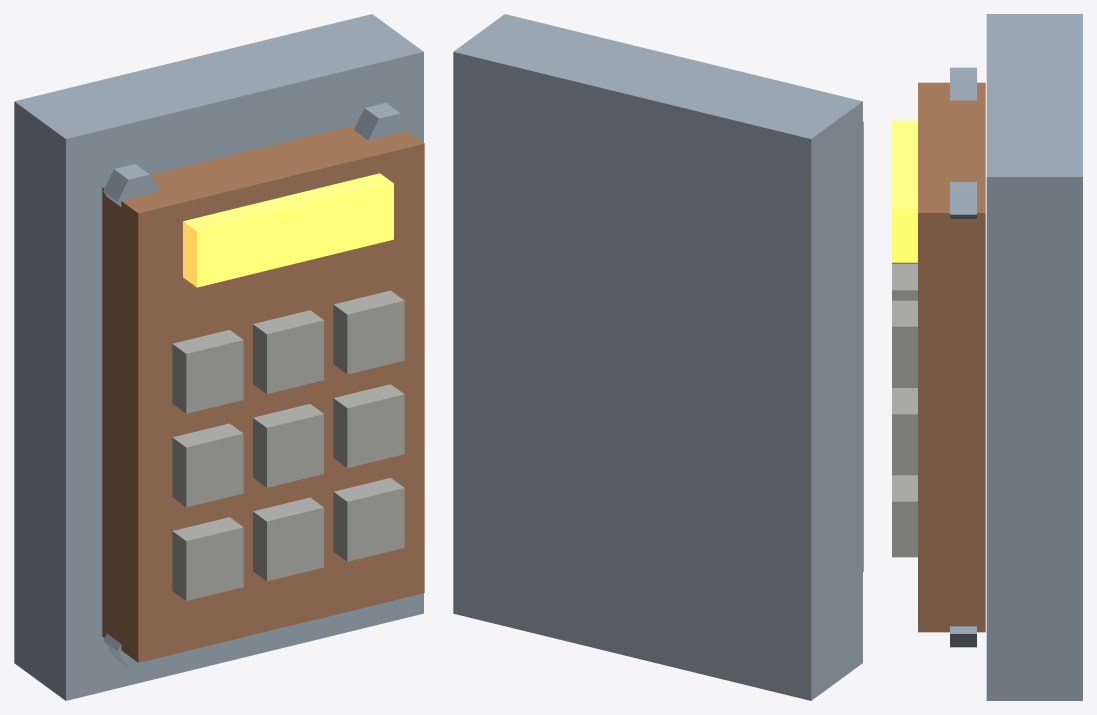
Rendered from wipe-day-survival-island-code-lock-on-plate-11a027a1__27476.glb.
3 views of the same model, side by side, from view 1: azimuth 30°, elevation 25°; view 2: azimuth 150°, elevation 25°; view 3: azimuth 270°, elevation 25° (orthographic). The views are drawn at different scales.
Visible parts, largest first — view 1: code-lock-on-plate; view 2: code-lock-on-plate; view 3: code-lock-on-plate.
Boxes of the visible parts, bbox=[...] form: code-lock-on-plate: bbox=[14, 14, 424, 700]; code-lock-on-plate: bbox=[453, 14, 863, 700]; code-lock-on-plate: bbox=[892, 14, 1082, 700].
Bounding box in the file's own units: 0.2 × 0.3 × 0.099.
